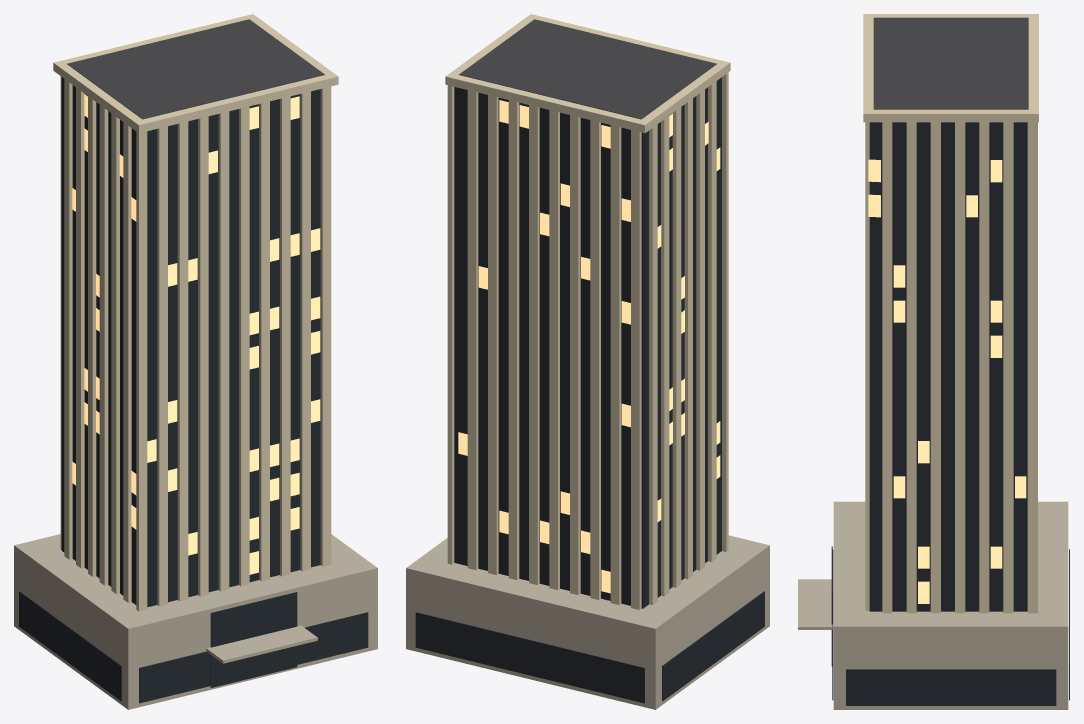
File: t_strip_cream_14.glb
The picture shows the model from 3 angles, left to right: view 1: azimuth 30°, elevation 25°; view 2: azimuth 150°, elevation 25°; view 3: azimuth 270°, elevation 25°; orthographic projection. The views are drawn at different scales.
Parts seen in each view (by area): view 1: t_strip_cream_14; view 2: t_strip_cream_14; view 3: t_strip_cream_14.
Boxes of the visible parts, x1,y1,x2,y2 form: t_strip_cream_14: [14, 14, 377, 709]; t_strip_cream_14: [406, 14, 769, 709]; t_strip_cream_14: [798, 14, 1069, 709].
Size of the model in its own units: 29.28 by 63.16 by 26.64.
